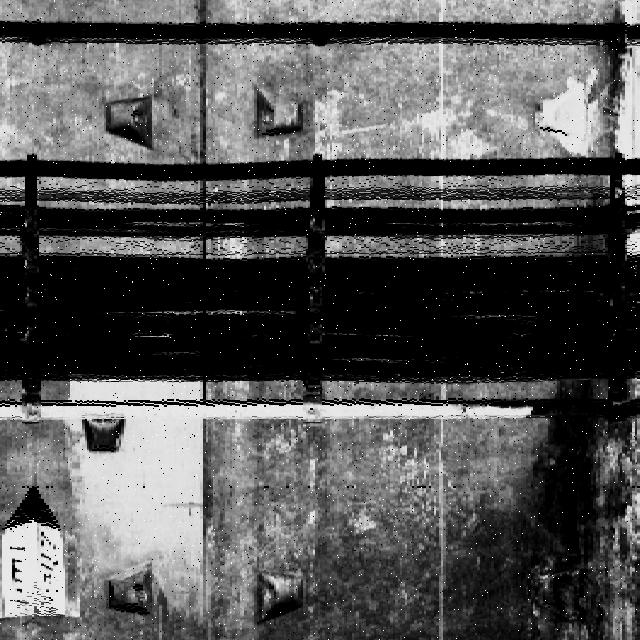leakage: (442, 381, 639, 640), (566, 1, 639, 261)
